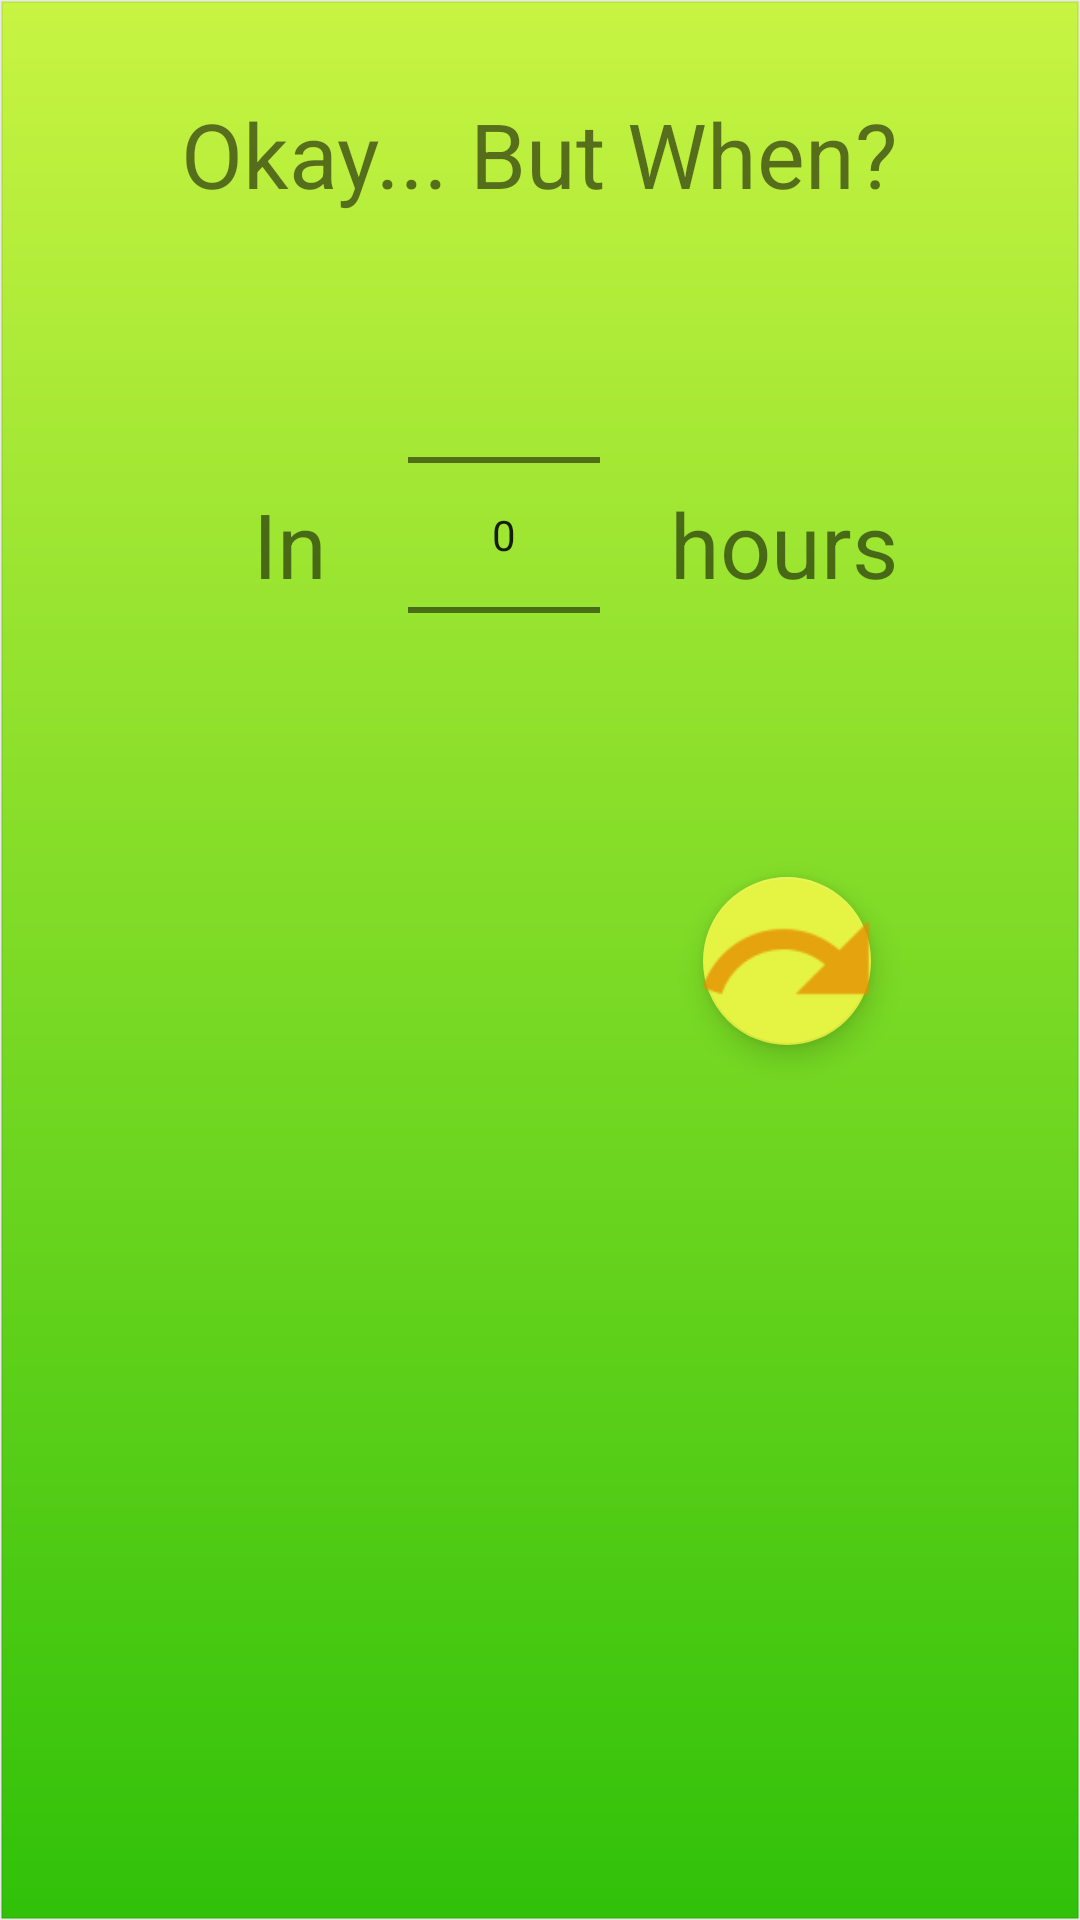

Screen size 1080w x 1920h. Icon name, then its center in pixels as (x,y):
nextpage: (787,961)
